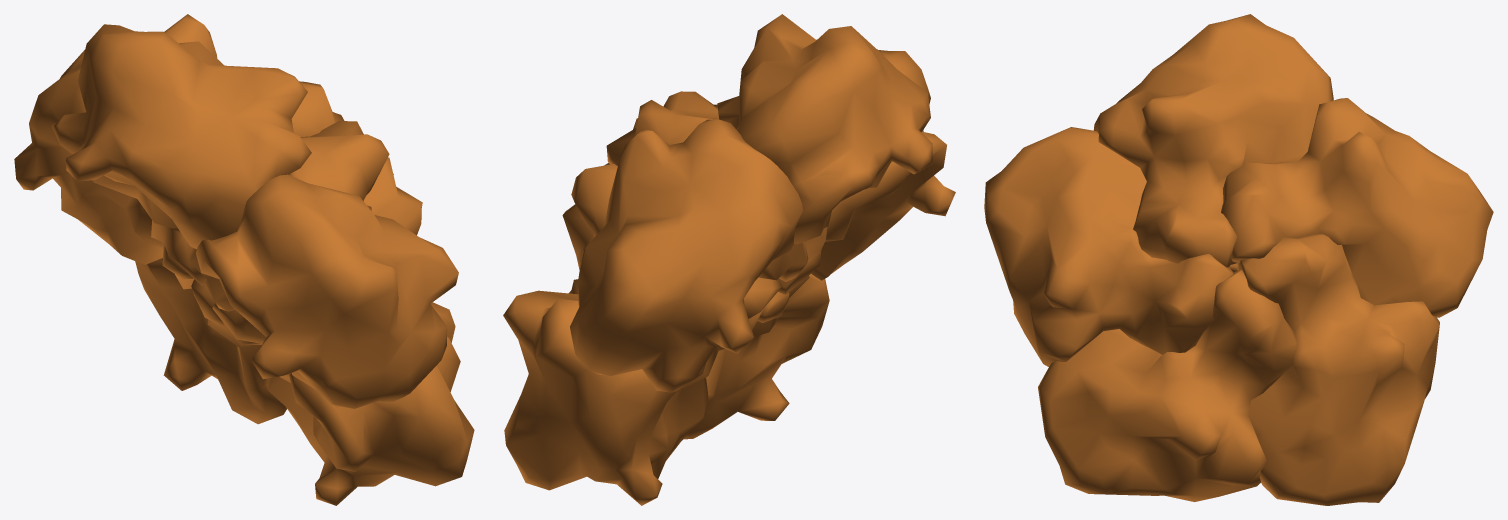
The model's file is 2plv_Polio.dae.
3 views of the same model, side by side, from view 1: azimuth 30°, elevation 25°; view 2: azimuth 150°, elevation 25°; view 3: azimuth 270°, elevation 25° (orthographic). The views are drawn at different scales.
Visible parts, largest first — view 1: CoarseMS_2plv (×5); view 2: CoarseMS_2plv (×5); view 3: CoarseMS_2plv (×5).
Boxes of the visible parts, x1,y1,x2,y2 form: CoarseMS_2plv (×5): (14,14,474,505); CoarseMS_2plv (×5): (503,14,955,505); CoarseMS_2plv (×5): (984,14,1493,505).
Bounding box in the file's own units: 126 × 149 × 172.
